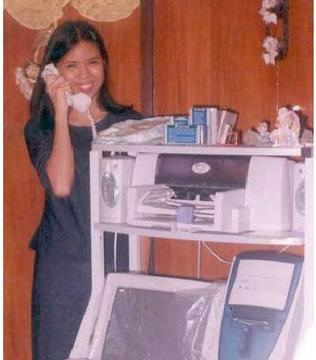person: (24, 20, 148, 360)
